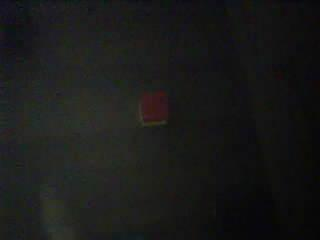lego: (137, 90, 170, 129)
